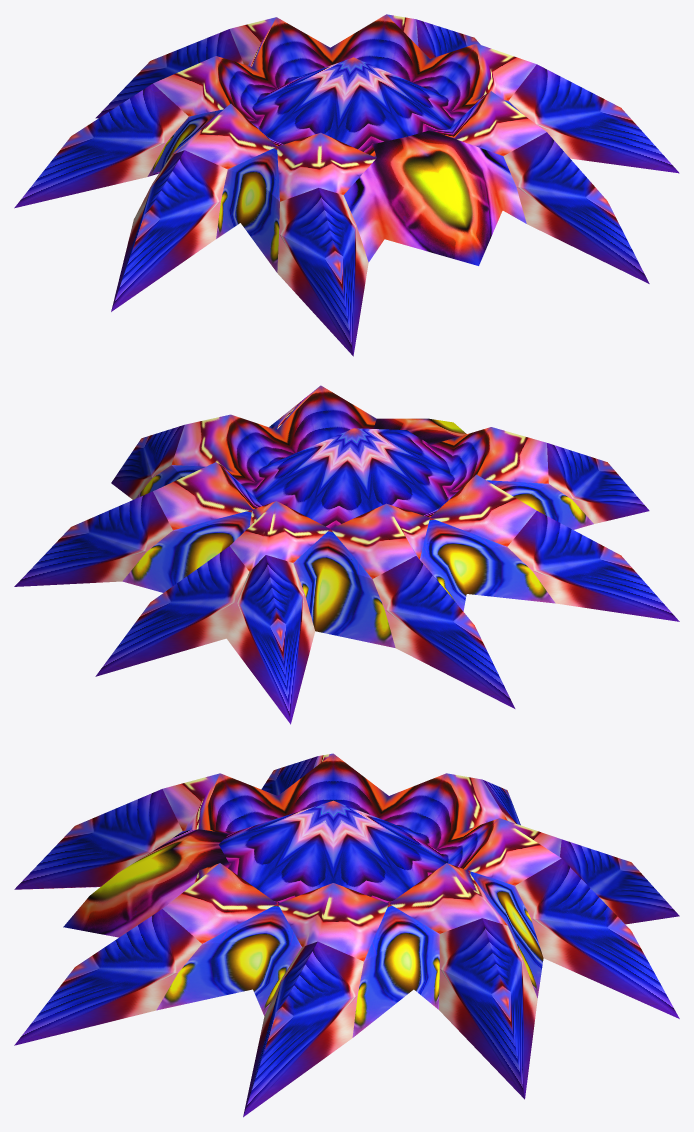
Rendered from ship-16.fbx.
3 renders of one model, top to bottom at view 1: azimuth 30°, elevation 25°; view 2: azimuth 150°, elevation 25°; view 3: azimuth 270°, elevation 25°, orthographic. The views are drawn at different scales.
Parts seen in each view (by area): view 1: ship-16; view 2: ship-16; view 3: ship-16.
Part boxes in pixels (<box>): ship-16: <box>14,14,679,356</box>; ship-16: <box>14,385,679,724</box>; ship-16: <box>14,753,679,1117</box>.
Size of the model in its own units: 119 by 32.6 by 112.
